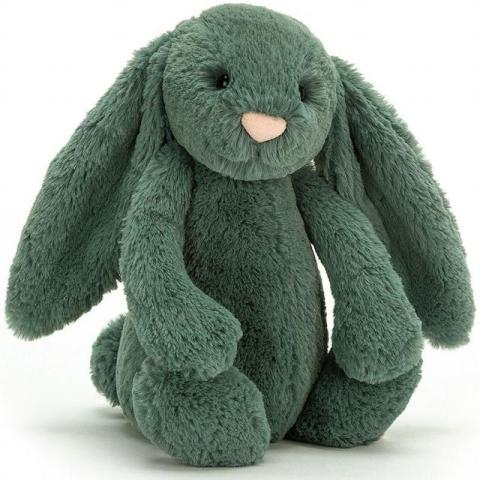small_animal: (3, 3, 475, 469)
